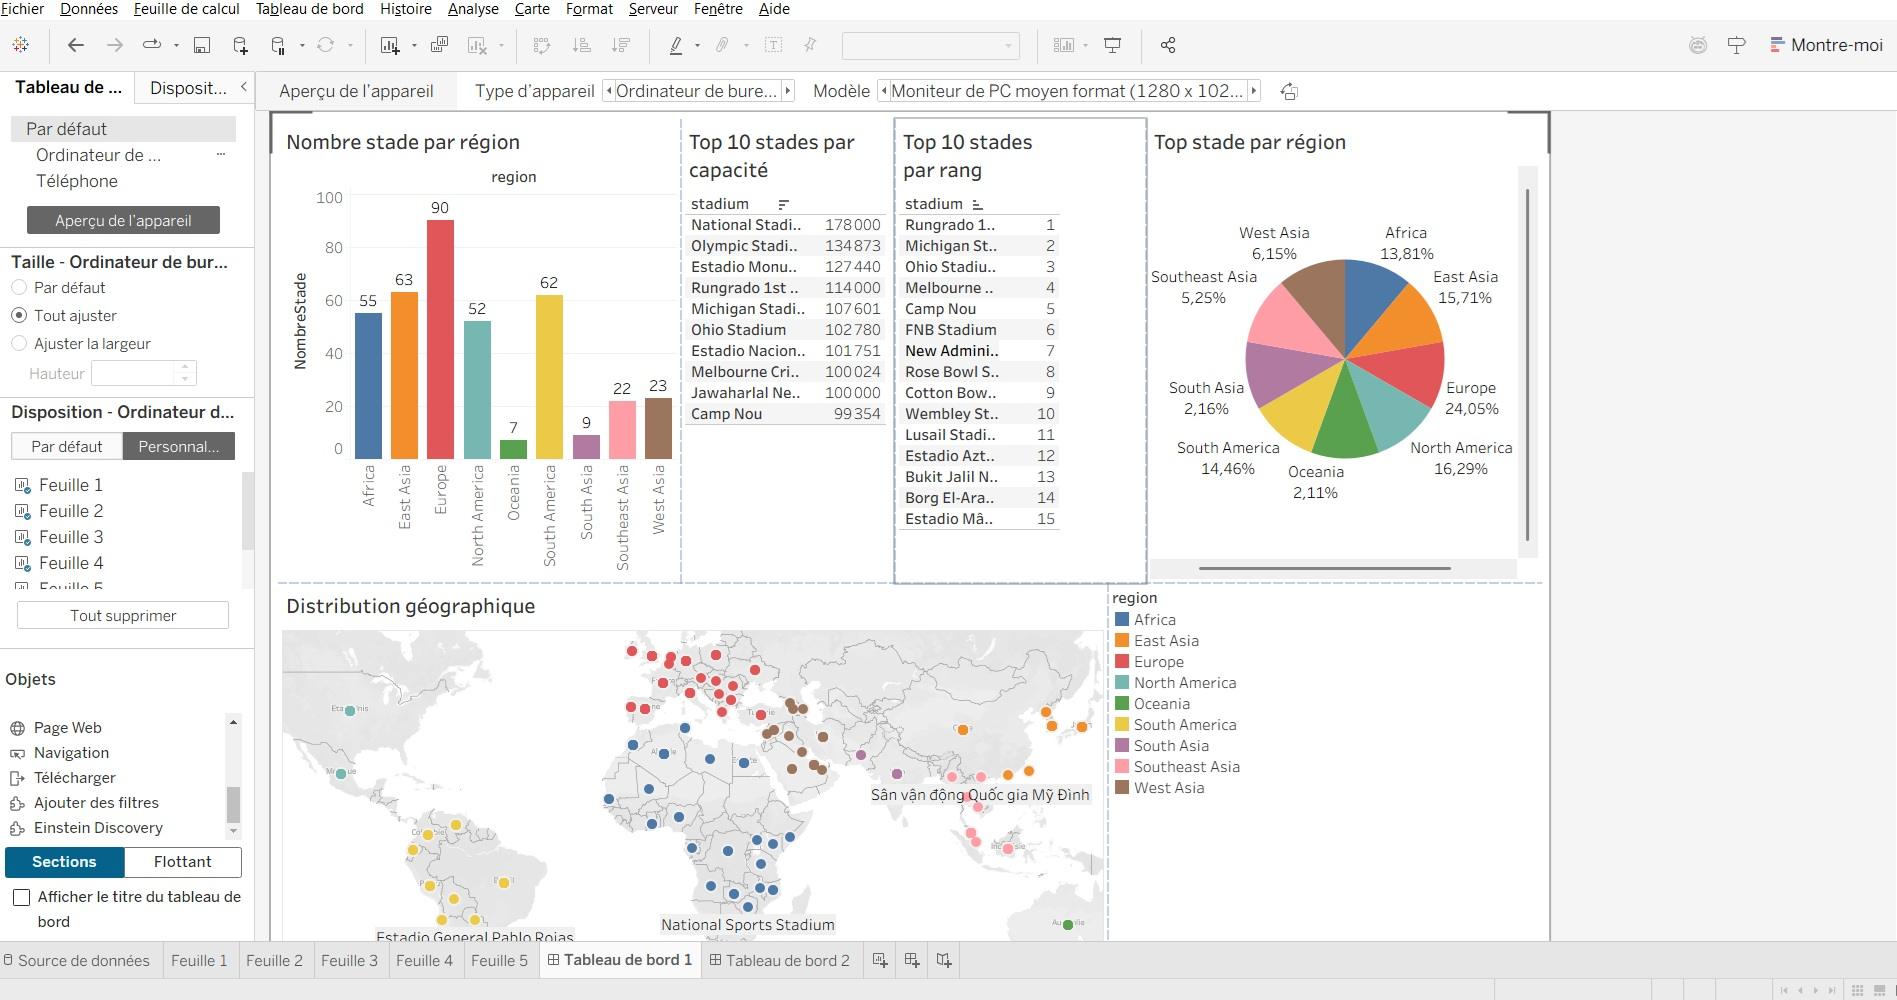

This screenshot's page, from the dashboard's own definition file:
{"tool":"tableau","page":{"name":"Tableau de bord 1","canvas":[1000,800],"ordinal":0},"visuals":[{"type":"worksheet","title":"Feuille 1","mark":"Automatic","rows":["Calculation_2396759480512163840"],"cols":["region"],"box":[8,8,398.9,424]},{"type":"worksheet","title":"Feuille 2","mark":"Automatic","rows":["stadium"],"box":[406.9,8,246.1,424]},{"type":"worksheet","title":"Feuille 3","mark":"Automatic","rows":["stadium"],"box":[653,8,216,424]},{"type":"worksheet","title":"Feuille 4","mark":"Pie","box":[869,8,123,424]},{"type":"worksheet","title":"Feuille 5","mark":"Automatic","box":[8,432,791.1,360]},{"type":"legend","title":"Feuille 5","param":"[federated.0jym3pc1u98wuv1d6eorb1hth5o6].[none:region:nk]","box":[799.1,432,193,360]}]}

Visuals, with their boxes on the page's 1000x800 design canvas (x1, y1, x2, y2). These are canvas units, not pixel positions in the 1897x1000 screenshot, which may show the page scaled, cropped or inside an application window:
"Feuille 1" worksheet: [left=8, top=8, right=407, bottom=432]
"Feuille 2" worksheet: [left=407, top=8, right=653, bottom=432]
"Feuille 3" worksheet: [left=653, top=8, right=869, bottom=432]
"Feuille 4" worksheet (Pie marks): [left=869, top=8, right=992, bottom=432]
"Feuille 5" worksheet: [left=8, top=432, right=799, bottom=792]
"Feuille 5" legend: [left=799, top=432, right=992, bottom=792]
